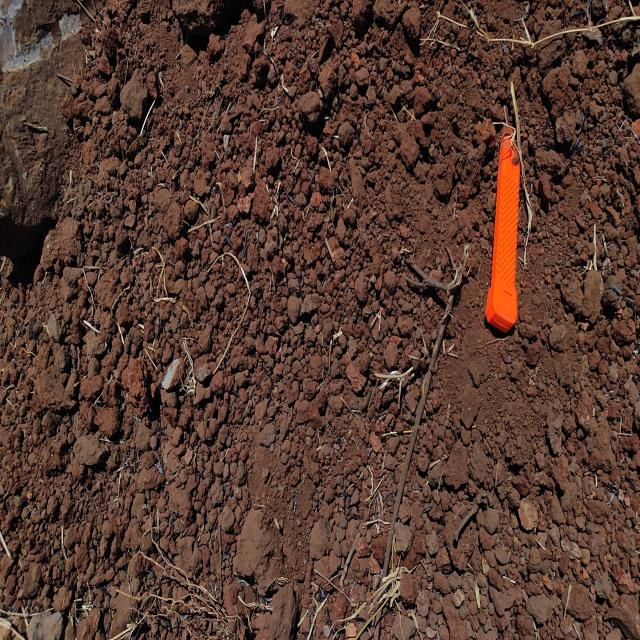Orange_hammer: (484, 118, 520, 334)
rock: (0, 3, 98, 233), (537, 53, 587, 158), (230, 496, 280, 592), (296, 84, 329, 136), (70, 432, 109, 473), (161, 194, 187, 250), (307, 518, 332, 566), (208, 33, 226, 64), (177, 40, 196, 68), (287, 296, 301, 327)
